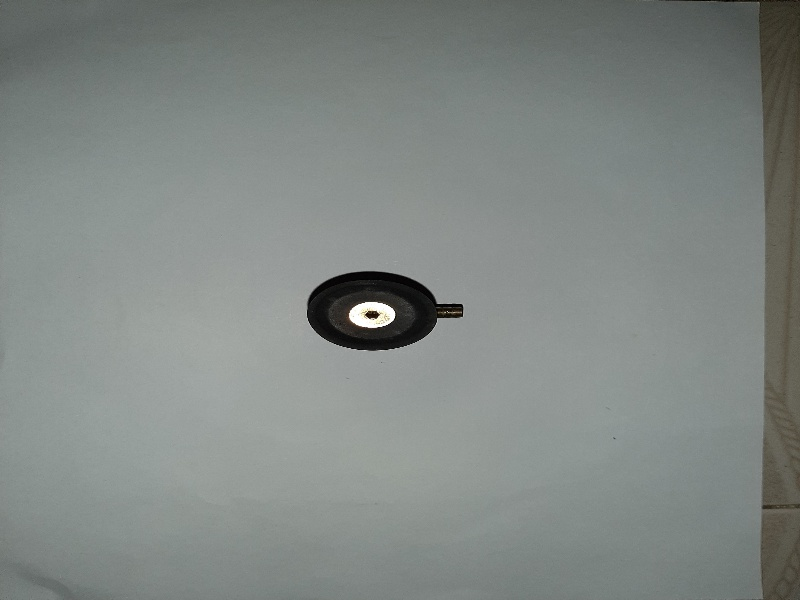Joint Hold: (305, 268, 471, 353)
